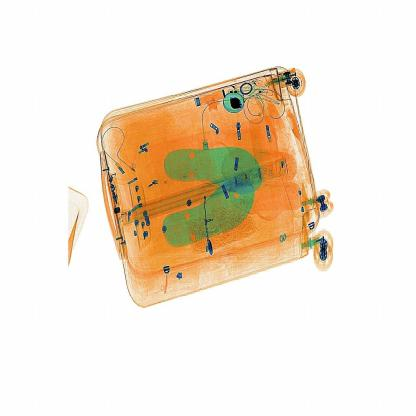scissors: (225, 90, 252, 118)
